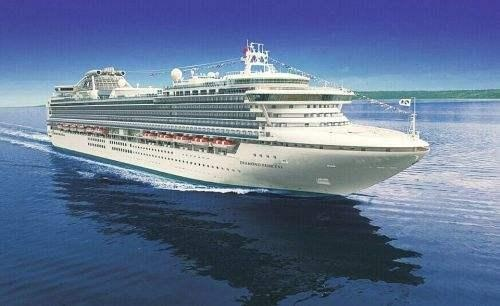youlun: (41, 42, 436, 199)
